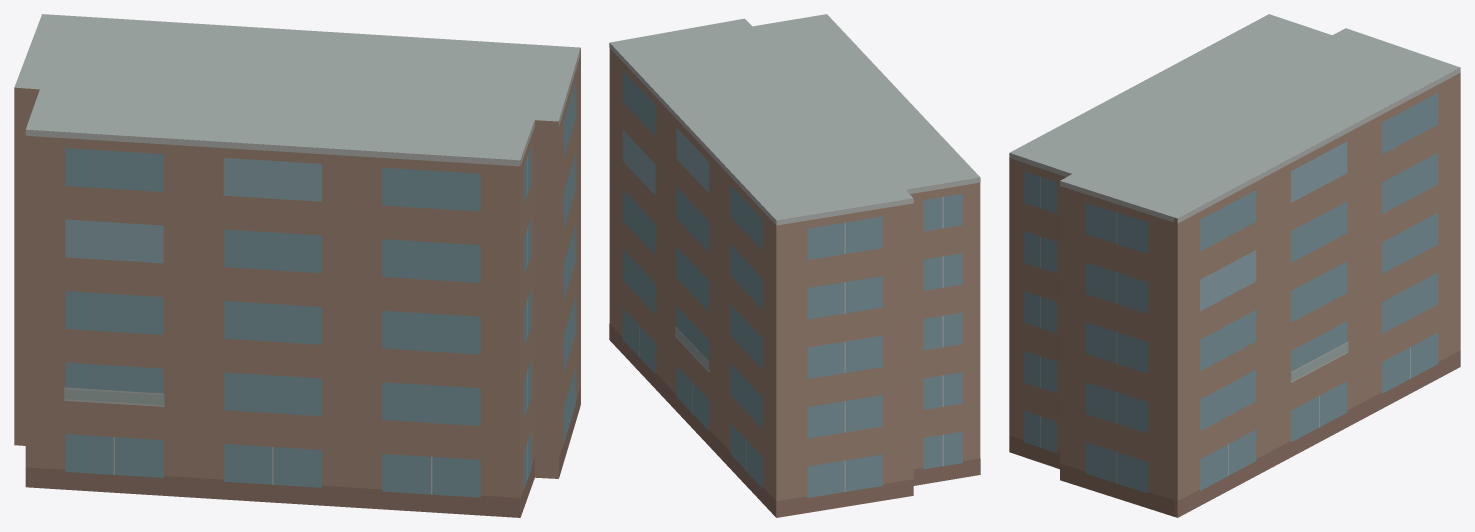
File: survey-upis-32657819.glb
3 renders of one model, left to right at view 1: azimuth 30°, elevation 25°; view 2: azimuth 150°, elevation 25°; view 3: azimuth 270°, elevation 25°, orthographic. The views are drawn at different scales.
Parts seen in each view (by area): view 1: survey-upis-32657819.tmp; view 2: survey-upis-32657819.tmp; view 3: survey-upis-32657819.tmp.
Boxes of the visible parts, x1=… form: survey-upis-32657819.tmp: x1=14, y1=14, x2=580, y2=517; survey-upis-32657819.tmp: x1=609, y1=14, x2=980, y2=517; survey-upis-32657819.tmp: x1=1009, y1=14, x2=1460, y2=517.
Bounding box in the file's own units: 20.96 × 14.3 × 19.55.
